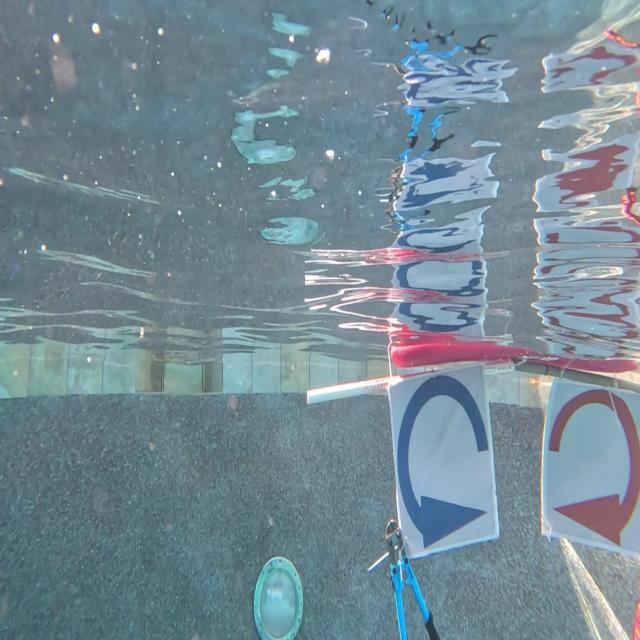blue_side: (392, 378, 493, 552)
red_side: (543, 377, 640, 542)
